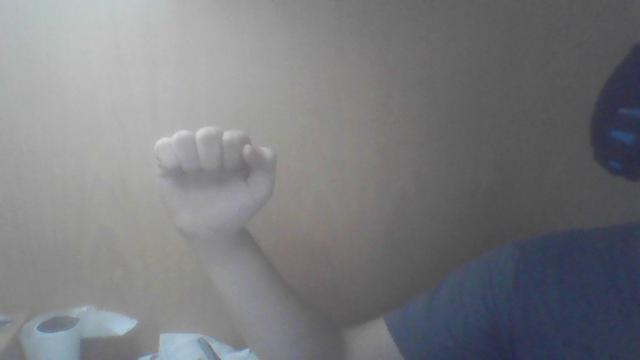forward: (153, 126, 277, 240)
